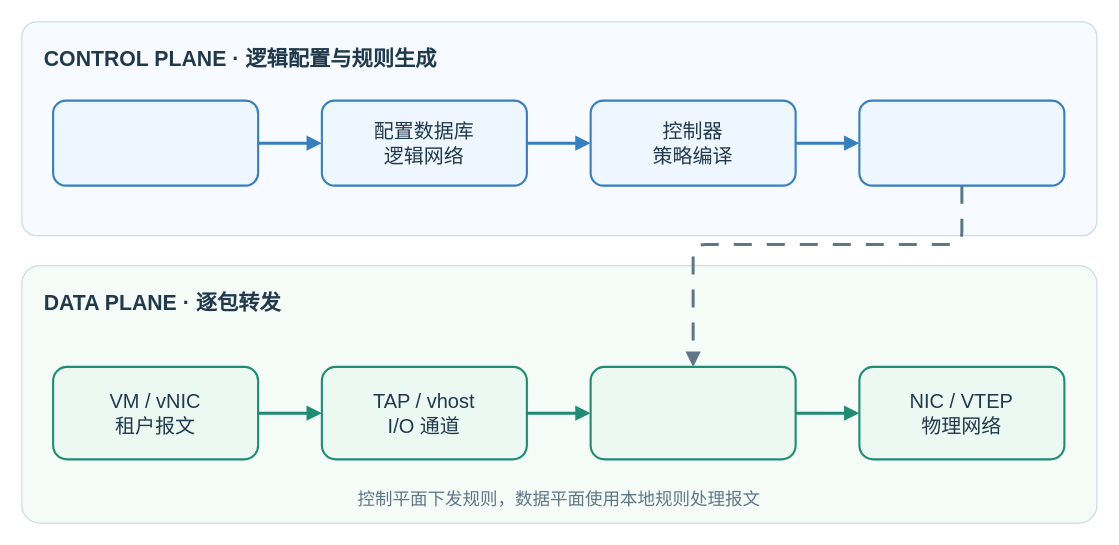
This 1119x545 diagram has some shape labels left out. Here are the shapes that lost their labels. From the top down, the centre of each, then its label:
the point at 155,142: 云 API VPC / Subnet
the point at 961,142: 规则与端点 ACL / FDB
the point at 692,412: OVS / 内核 过滤 · 封装
